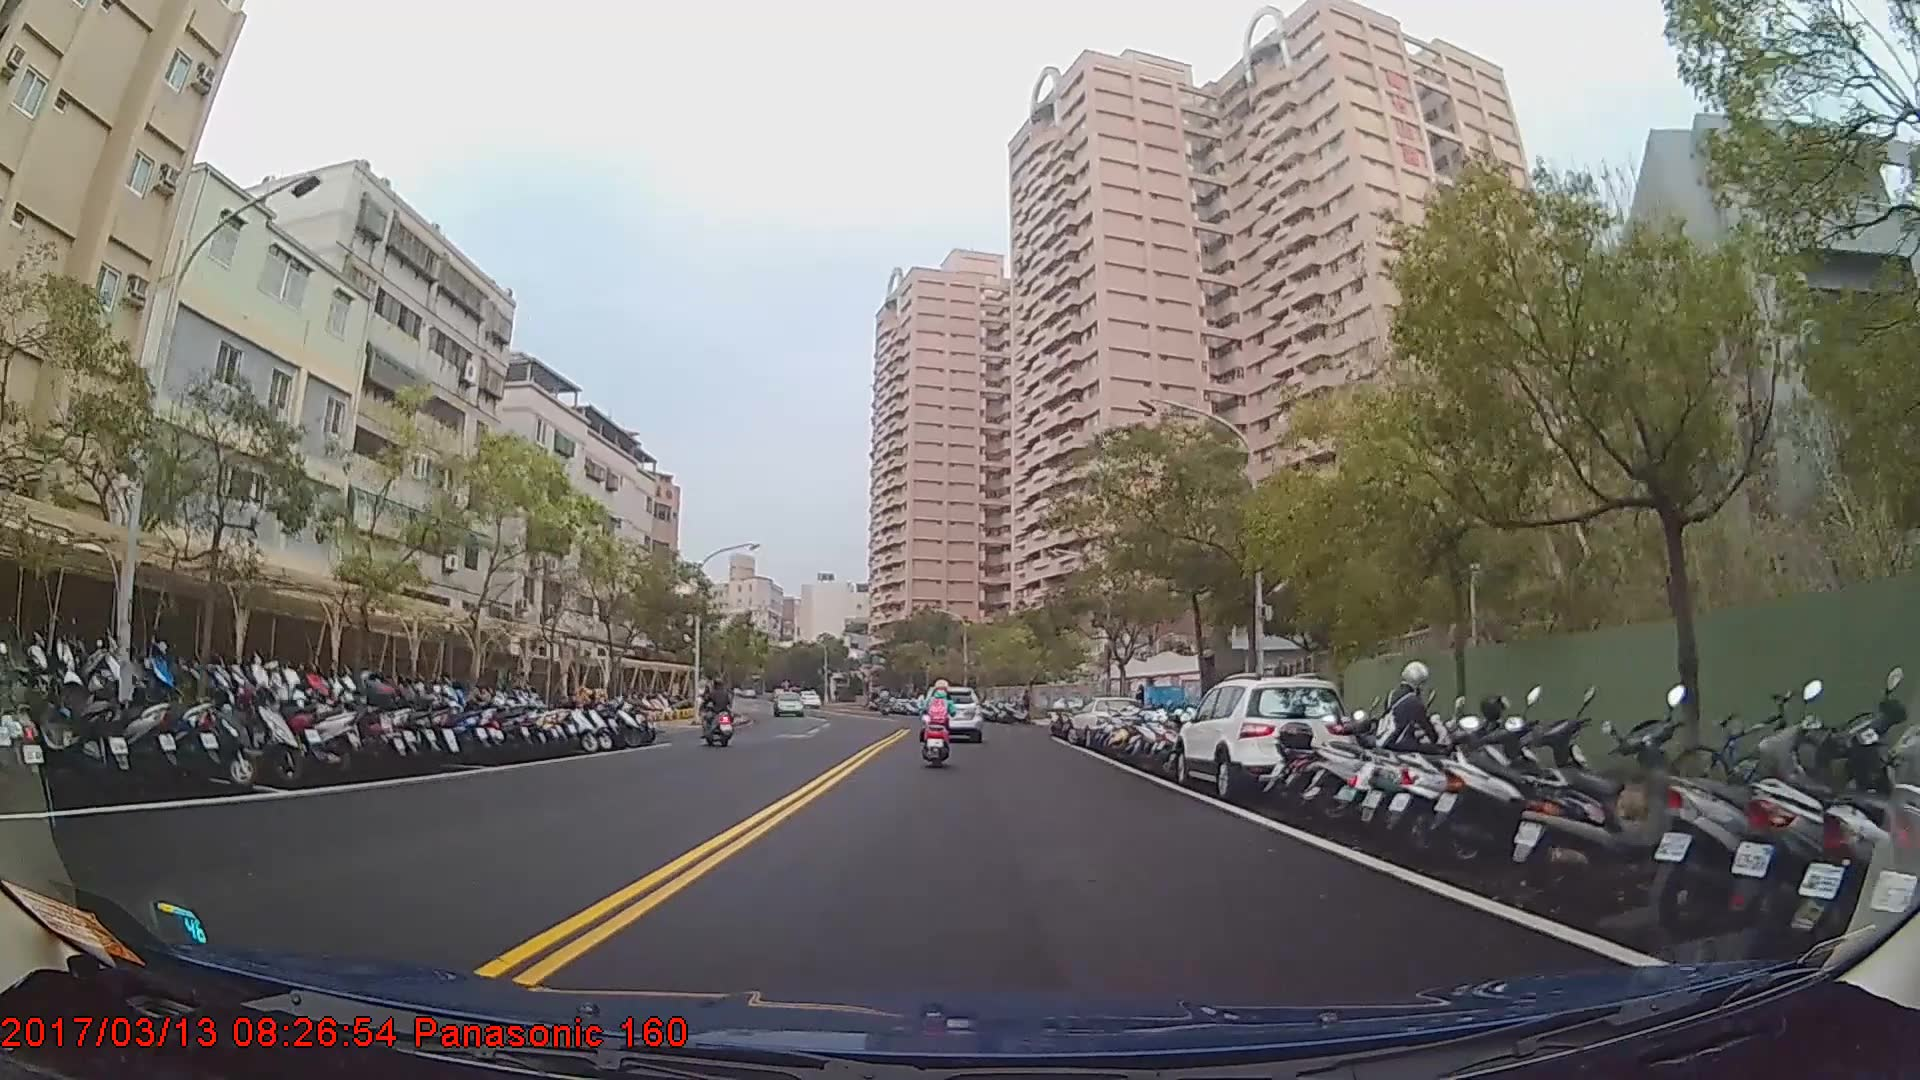rider: (919, 678, 957, 771), (702, 679, 739, 750)
vehicle: (1173, 675, 1352, 800), (1065, 695, 1147, 752), (921, 681, 980, 738), (771, 690, 806, 715)
